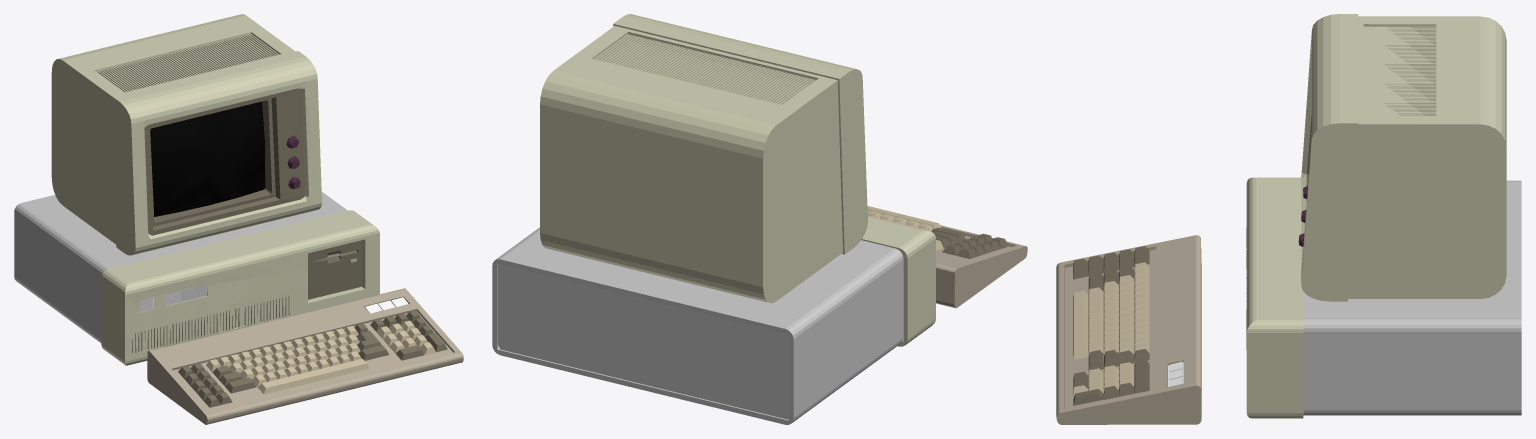
3 views of the same model, side by side, from view 1: azimuth 30°, elevation 25°; view 2: azimuth 150°, elevation 25°; view 3: azimuth 270°, elevation 25° (orthographic). The views are drawn at different scales.
Parts seen in each view (by area): view 1: StaticMeshActor_UAID_00155D35E6C9355C01_1818683639_StaticMes; view 2: StaticMeshActor_UAID_00155D35E6C9355C01_1818683639_StaticMes; view 3: StaticMeshActor_UAID_00155D35E6C9355C01_1818683639_StaticMes.
Boxes of the visible parts, box(x1,y1,x2,y2) form: StaticMeshActor_UAID_00155D35E6C9355C01_1818683639_StaticMes: box(14, 14, 463, 424); StaticMeshActor_UAID_00155D35E6C9355C01_1818683639_StaticMes: box(492, 14, 1027, 424); StaticMeshActor_UAID_00155D35E6C9355C01_1818683639_StaticMes: box(1056, 14, 1521, 424).
Size of the model in its own units: 0.672 by 0.5709 by 0.8653.
